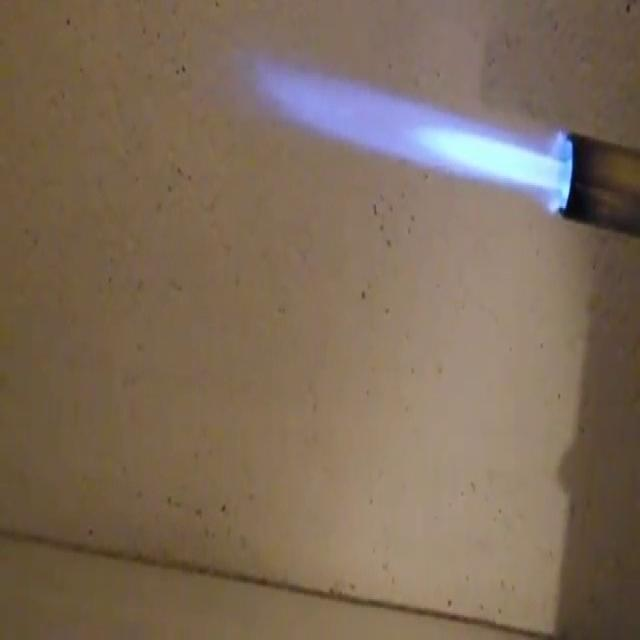fire: (224, 9, 570, 252)
